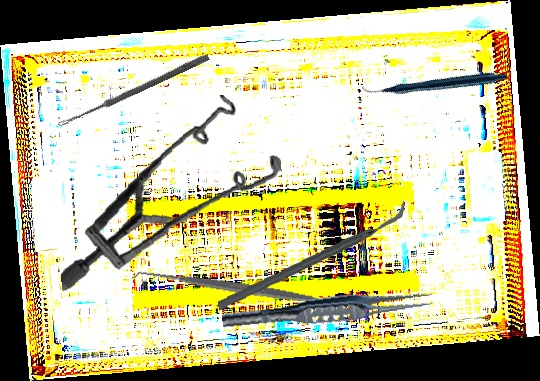Chopper: (213, 201, 410, 312)
Handpiece: (359, 13, 510, 150)
Spatula Surgical: (131, 259, 359, 320)
Speculum: (46, 90, 291, 292)
Surgical Spoon: (57, 52, 210, 130)
Tissue Forceps: (221, 283, 434, 337)
